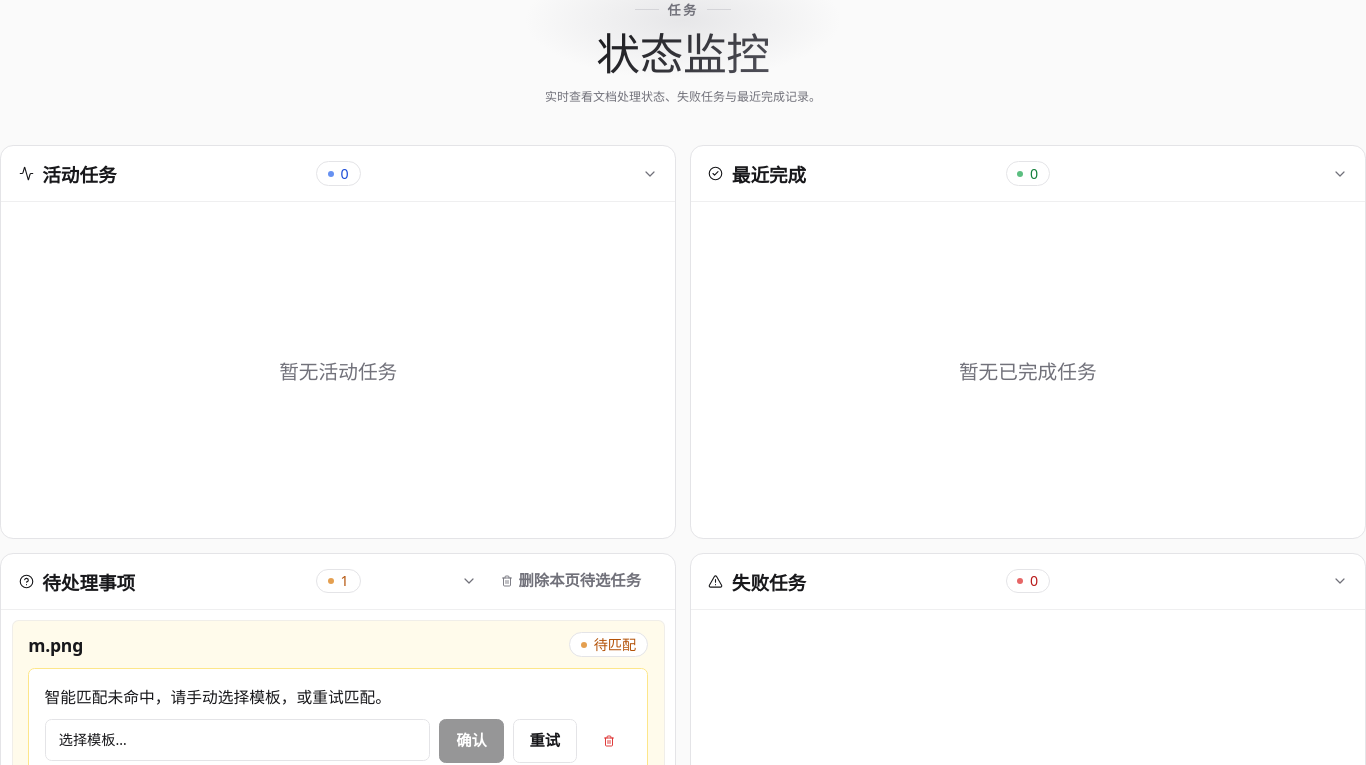
it: TaskQueuePage › batch deletes waiting-for-template tasks with a single confirmation
Expected: the text "m.png" is shown, [28,633,83,657]
Step 1. Click the button "删除本页待选任务" → (571, 581), box [484,559,658,603]
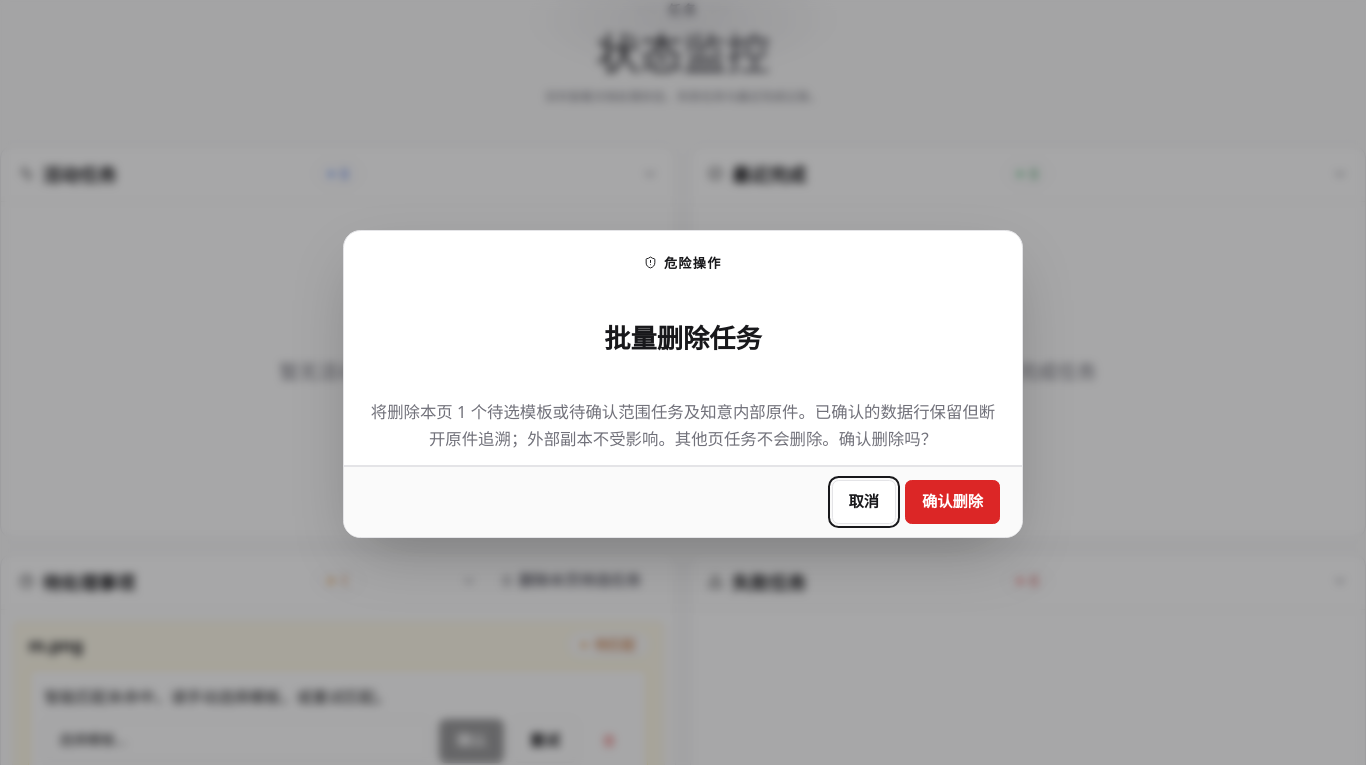
Result: the button "确认删除" is enabled
Step 2. Click the button "确认删除" → (952, 502), box [905,480,1000,524]
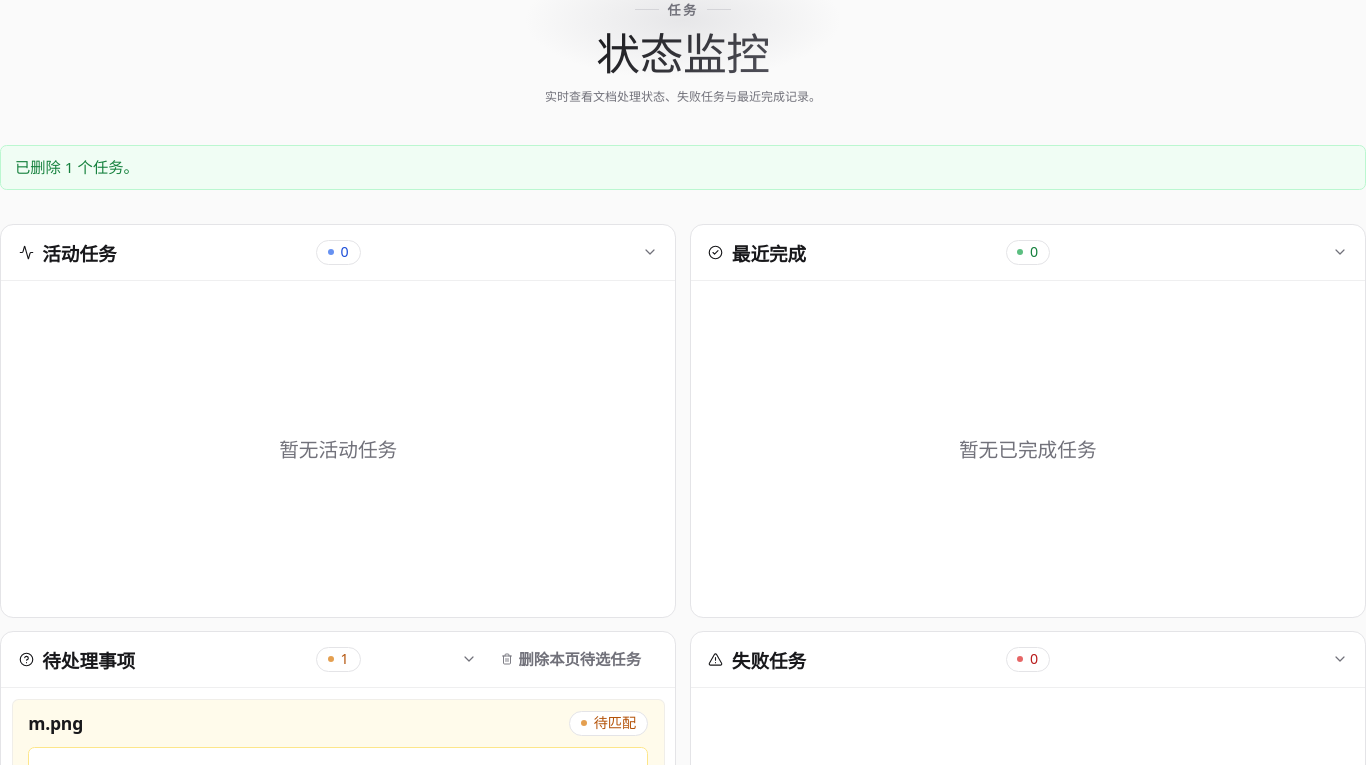
Result: the text "已删除 1 个任务。" is shown at [0,145,1365,190]
